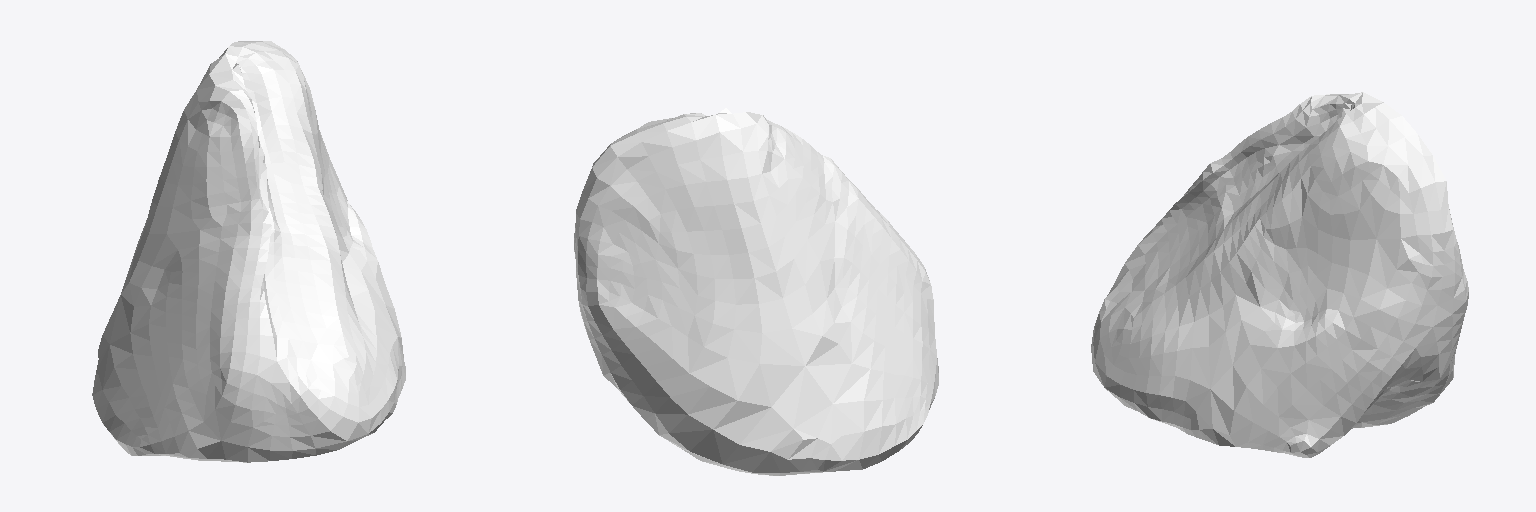
Rendered from rocks_small2.obj.
3 renders of one model, left to right at view 1: azimuth 30°, elevation 25°; view 2: azimuth 150°, elevation 25°; view 3: azimuth 270°, elevation 25°, orthographic.
Visible parts, largest first — view 1: Volume3; view 2: Volume3; view 3: Volume3.
Boxes of the visible parts, <box> form: Volume3: <box>92,41,405,462</box>; Volume3: <box>574,108,938,475</box>; Volume3: <box>1091,92,1468,457</box>.
Size of the model in its own units: 71.12 by 82.33 by 83.4.